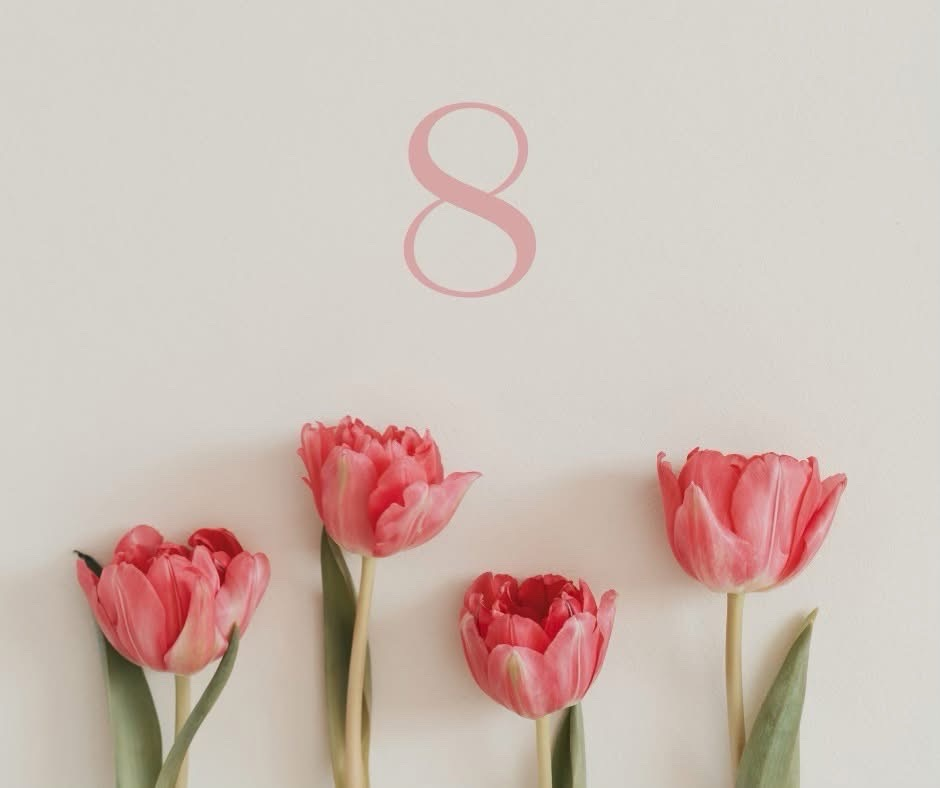rose: (627, 421, 850, 613), (63, 497, 275, 681), (446, 554, 631, 716), (292, 397, 465, 566)
